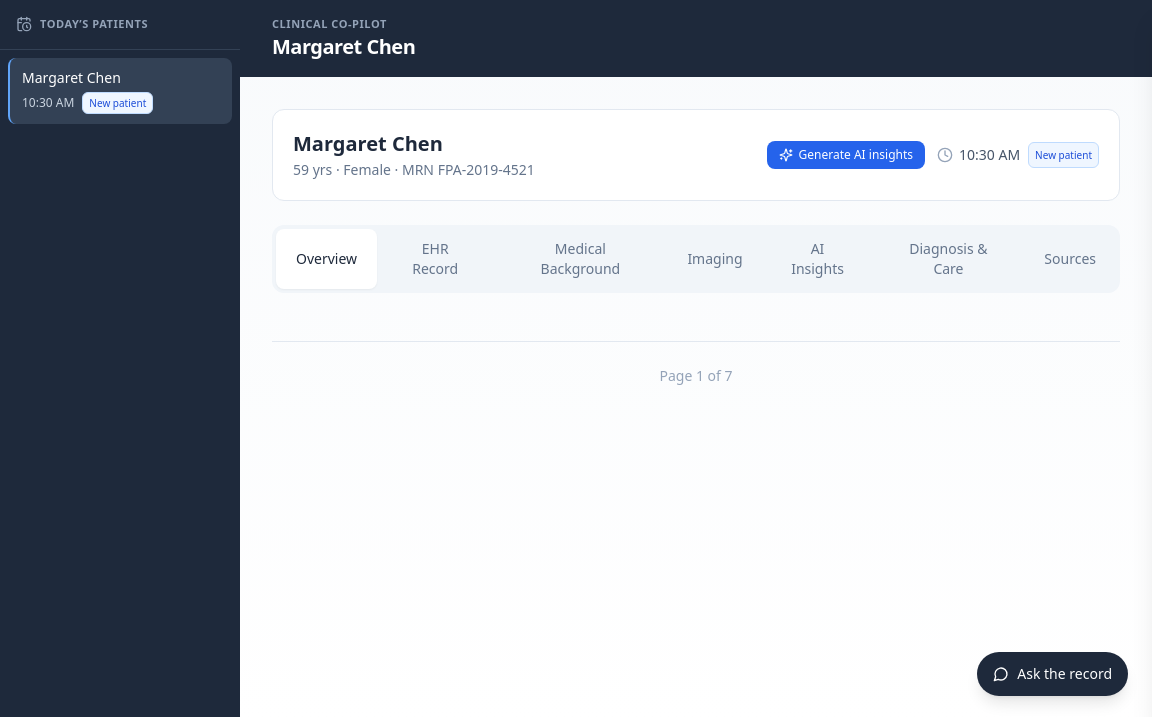
Origin badges › marks fact origin on Medical Background rows (the record home after Q8)
Expected: the tab "EHR Record" is shown, x1=377 y1=228 x2=493 y2=288
Note: Q8 moved the fact groups off the Overview — the badge surface is Medical Background.
Click the tab "Medical Background" at (580, 258), box x1=493 y1=228 x2=667 y2=288
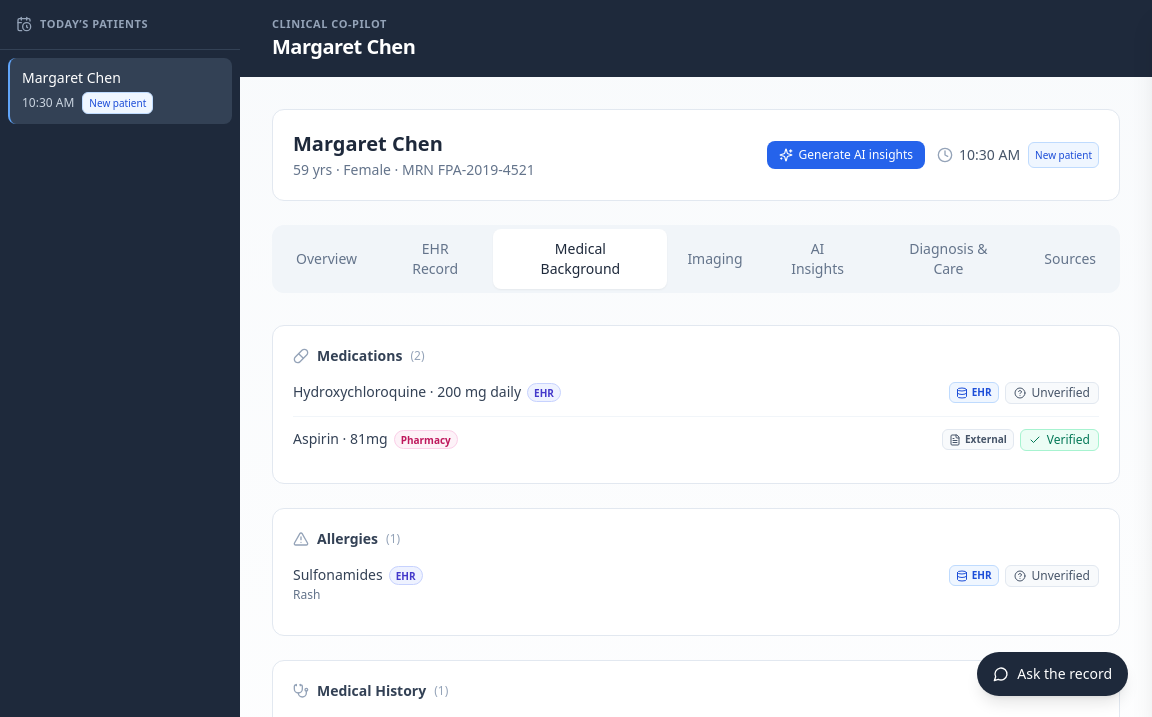
Expected: the element with test id "origin-badge" is shown, x1=949 y1=382 x2=999 y2=403
